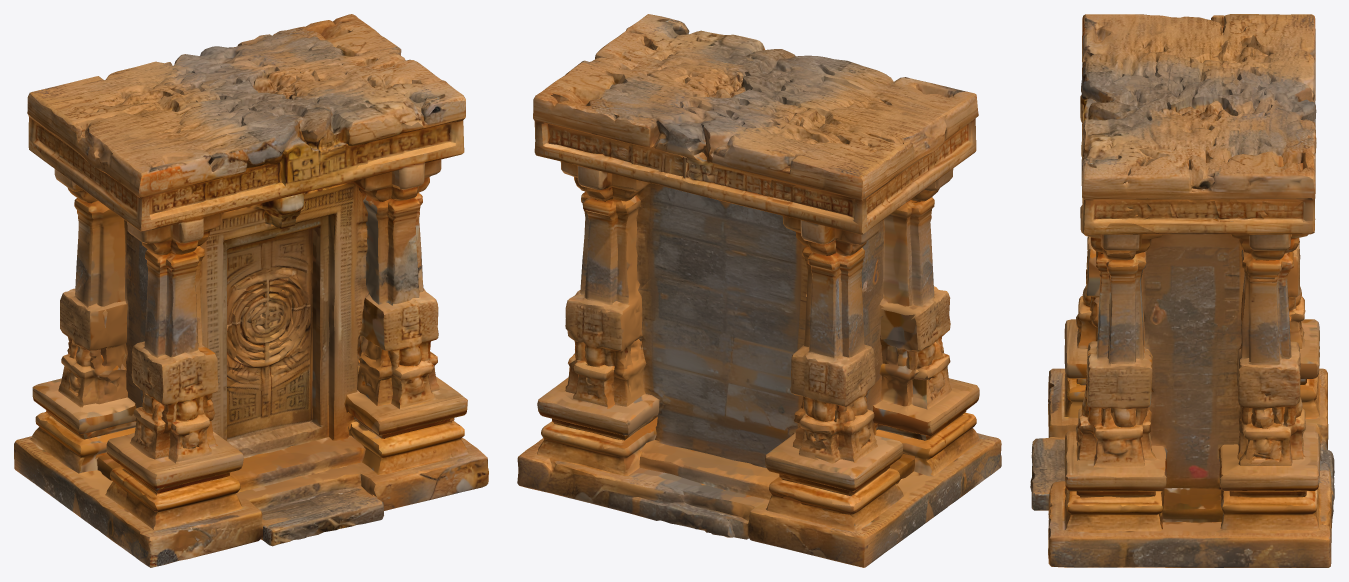
File: sacred-temple-door.glb
3 renders of one model, left to right at view 1: azimuth 30°, elevation 25°; view 2: azimuth 150°, elevation 25°; view 3: azimuth 270°, elevation 25°, orthographic. The views are drawn at different scales.
Parts seen in each view (by area): view 1: textured_mesh; view 2: textured_mesh; view 3: textured_mesh.
Part boxes in pixels (x1=…): textured_mesh: x1=14, y1=14, x2=488, y2=567; textured_mesh: x1=517, y1=14, x2=1001, y2=567; textured_mesh: x1=1030, y1=14, x2=1334, y2=567.
Size of the model in its own units: 1.86 by 1.99 by 1.4.
1 material, 1 textured.
